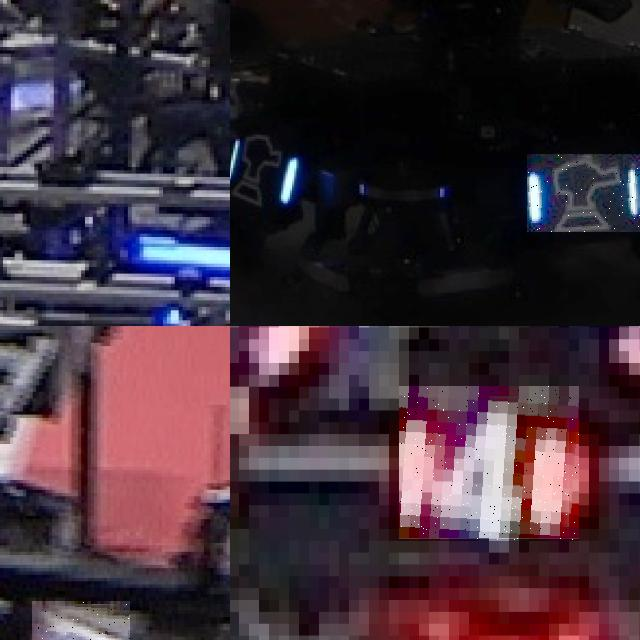Bs: (527, 153, 640, 232), (230, 128, 300, 209)
R1: (32, 600, 129, 640)
R4: (399, 386, 579, 540)
